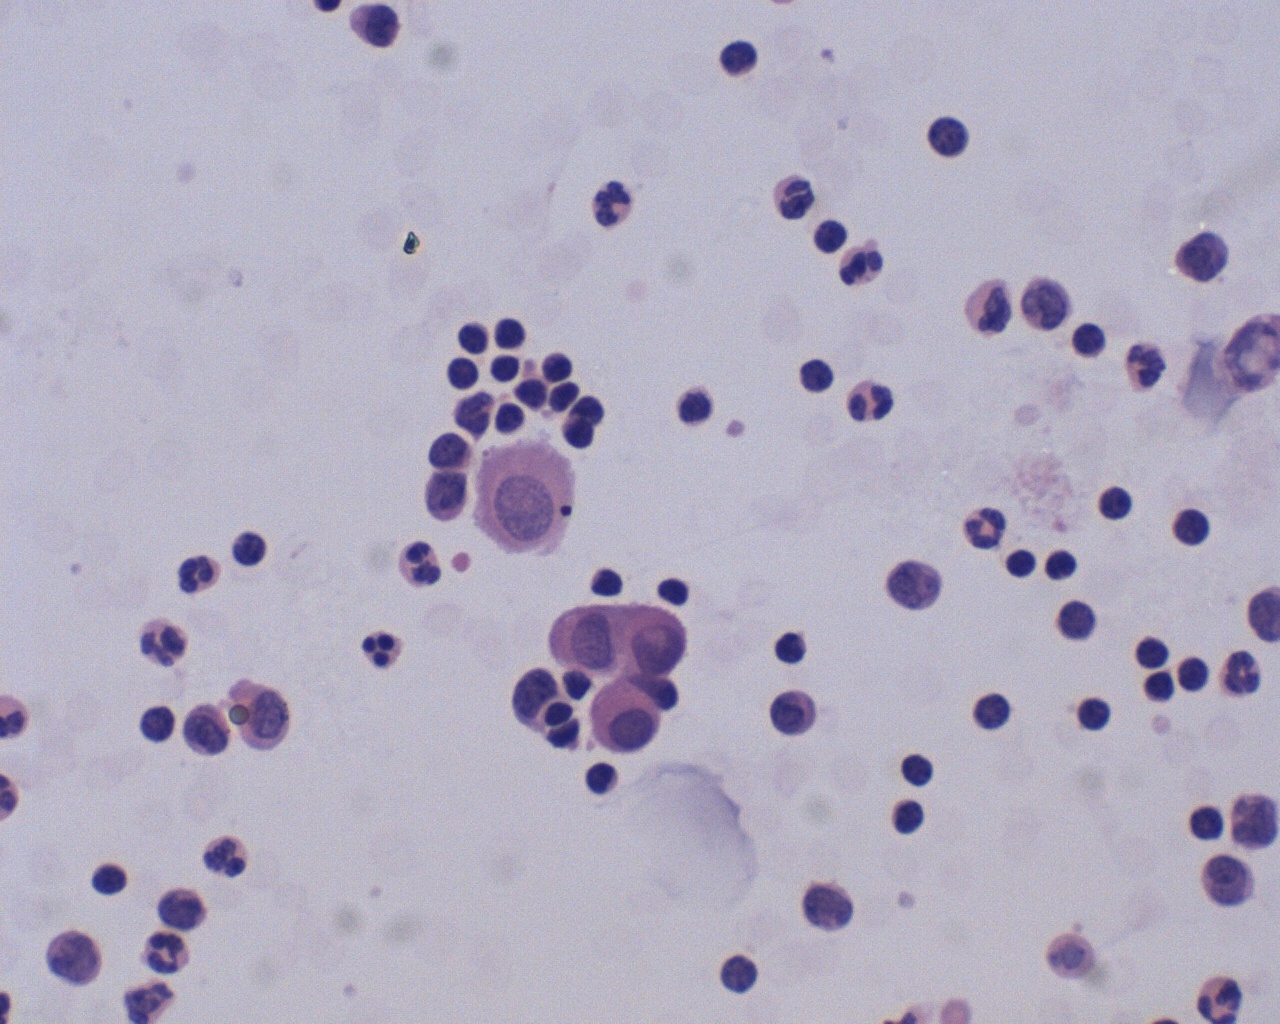ab: (471, 433, 589, 562), (616, 597, 705, 675), (549, 603, 624, 673), (39, 925, 111, 993), (179, 699, 234, 761)
lymph: (1093, 478, 1144, 528), (768, 622, 815, 675), (788, 351, 835, 403), (576, 753, 627, 800), (880, 796, 932, 841), (890, 746, 940, 790), (1071, 686, 1115, 737), (1001, 544, 1034, 586)
meso: (587, 676, 665, 760)
neutro: (1112, 333, 1172, 396), (764, 168, 827, 226), (136, 616, 195, 675), (834, 233, 889, 296), (1210, 644, 1267, 703), (586, 174, 643, 233), (842, 376, 904, 429), (960, 497, 1017, 554), (140, 925, 196, 978), (355, 626, 416, 675), (200, 830, 250, 884), (170, 548, 224, 598)
